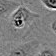cell: (13, 16, 25, 29), (1, 3, 7, 14)
